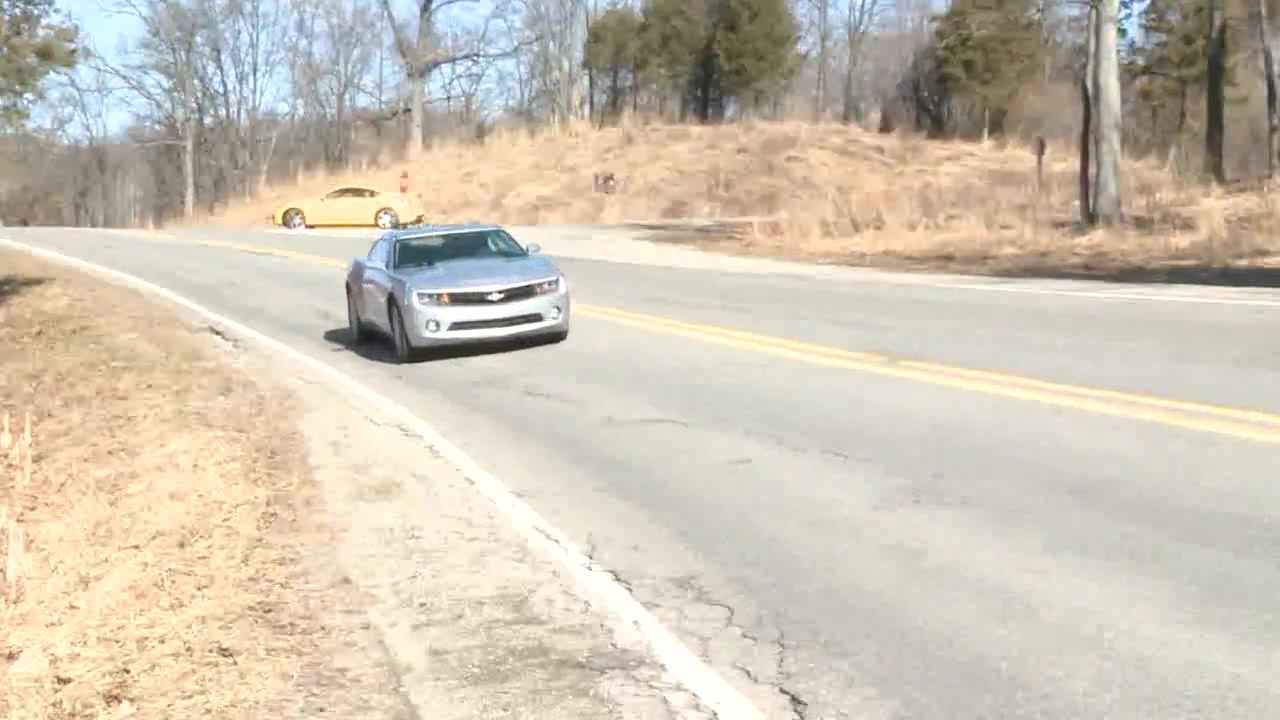car: (342, 223, 572, 361)
